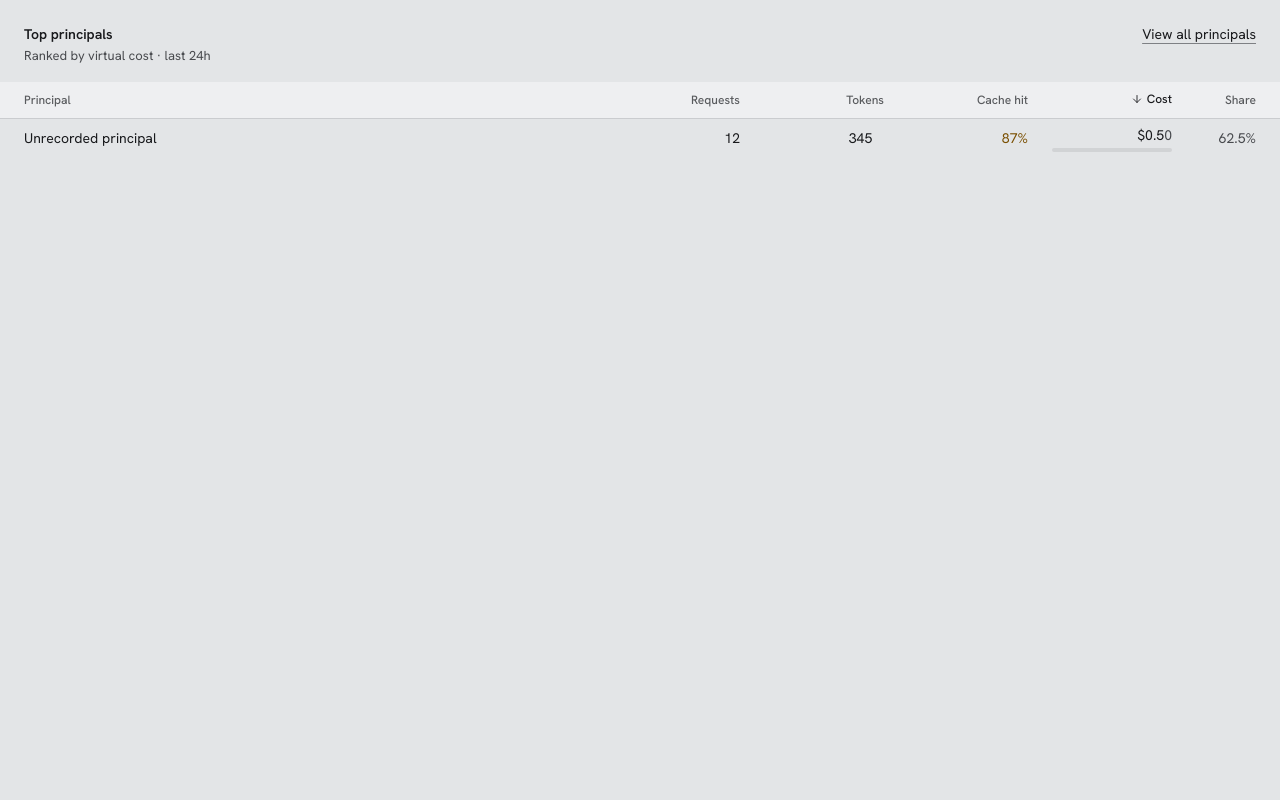
Test: Top principal cost breakdown and cache hit › leaves bare track and says so when no category cost was recorded
What coordinates should you click on to do the following:
click the button "$0.50"
I would click on:
 (1112, 138)
Its box is x1=1040 y1=119 x2=1184 y2=158.
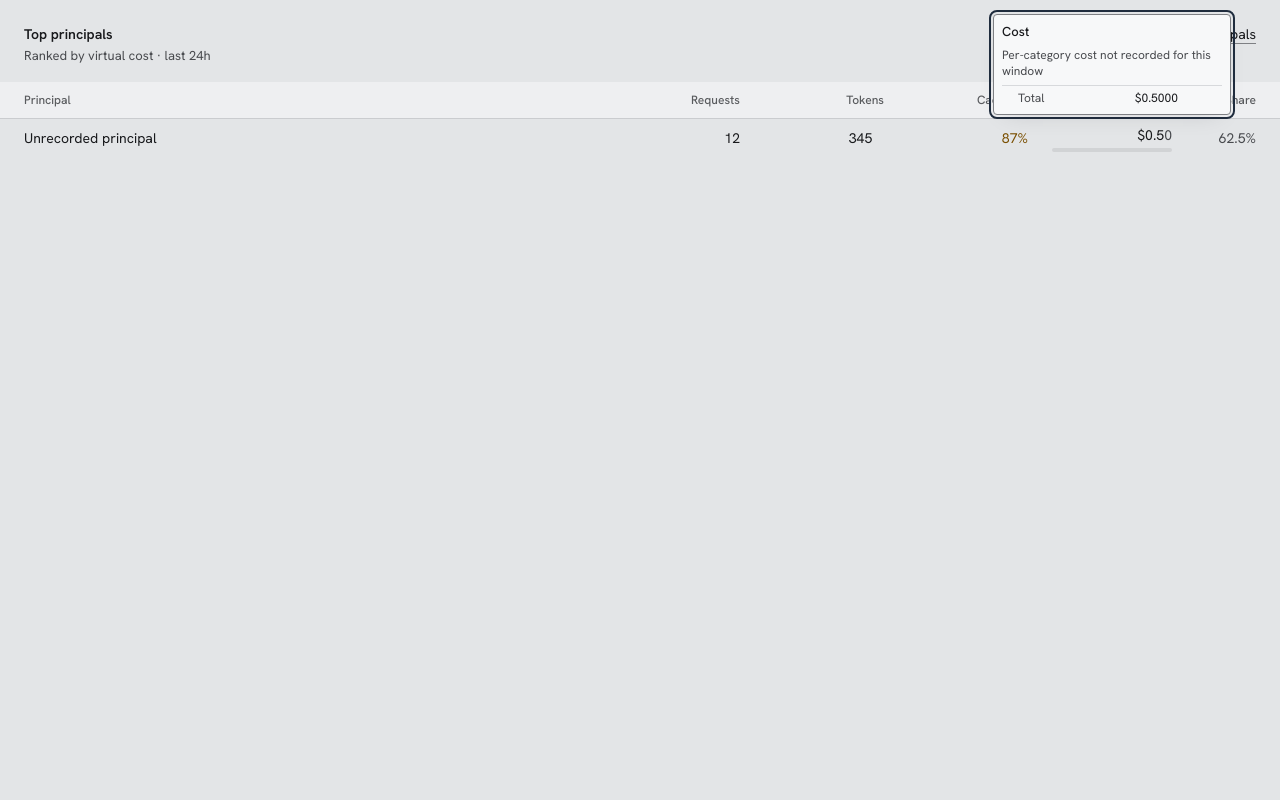
Check: the text "Per-category cost not recorded for this window" is shown, box x1=1002 y1=47 x2=1222 y2=79
